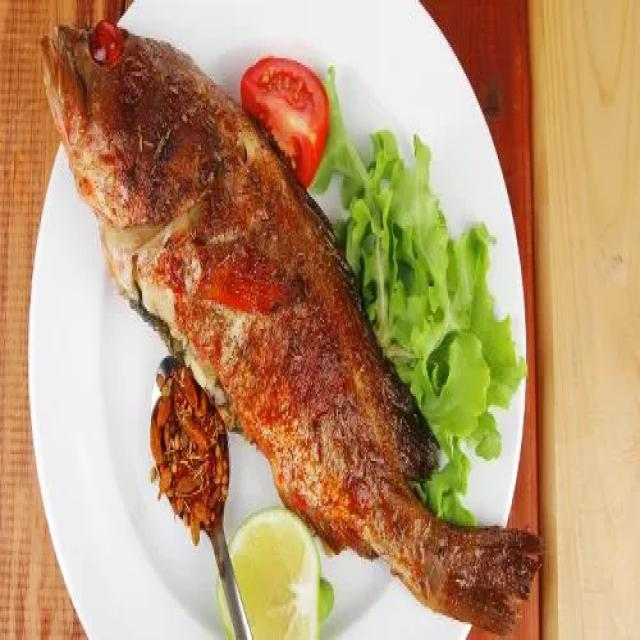Peixe: (38, 11, 544, 636)
